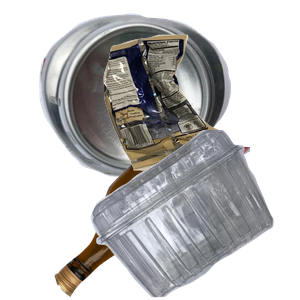glass: (52, 147, 292, 300)
metal: (37, 11, 261, 180)
plastic: (88, 130, 300, 300)
trash: (101, 32, 300, 195)
